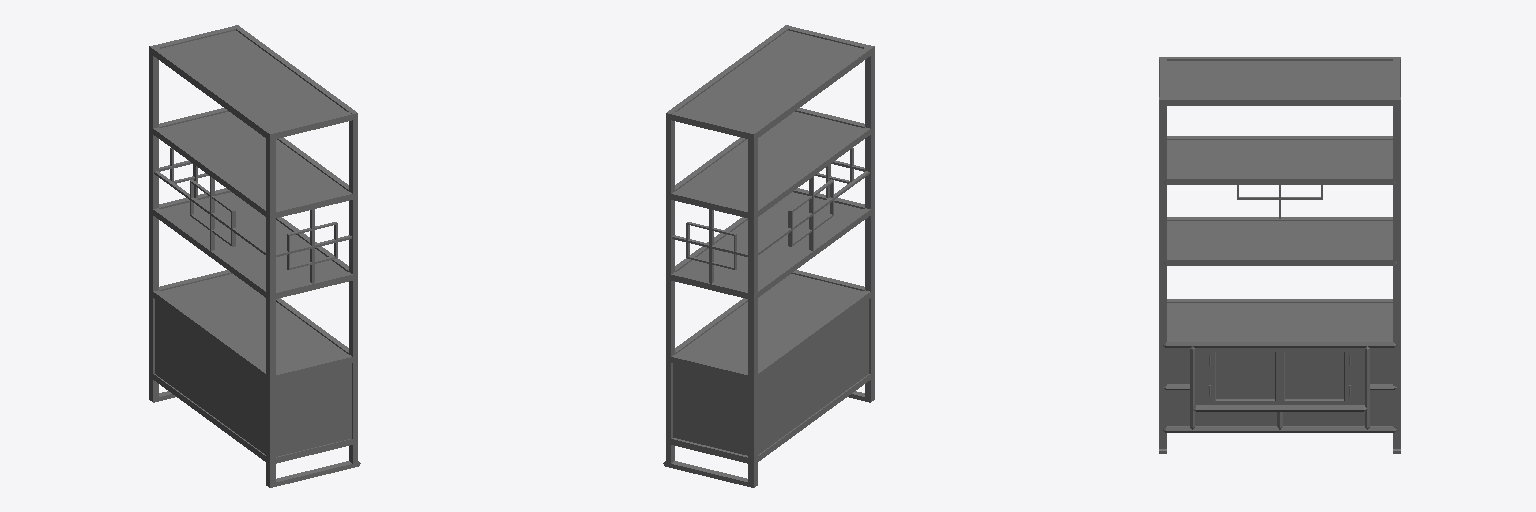
Rendered from shelf_obj.obj.
The picture shows the model from 3 angles: view 1: azimuth 30°, elevation 25°; view 2: azimuth 150°, elevation 25°; view 3: azimuth 270°, elevation 25°; orthographic projection.
Visible parts, largest first — view 1: Masters_shelfB_LP_Mesh; view 2: Masters_shelfB_LP_Mesh; view 3: Masters_shelfB_LP_Mesh.
Boxes of the visible parts, x1=… form: Masters_shelfB_LP_Mesh: x1=149, y1=25, x2=360, y2=487; Masters_shelfB_LP_Mesh: x1=663, y1=25, x2=874, y2=487; Masters_shelfB_LP_Mesh: x1=1159, y1=57, x2=1400, y2=453.
Bounding box in the file's own units: 0.0458 × 0.1673 × 0.1034.